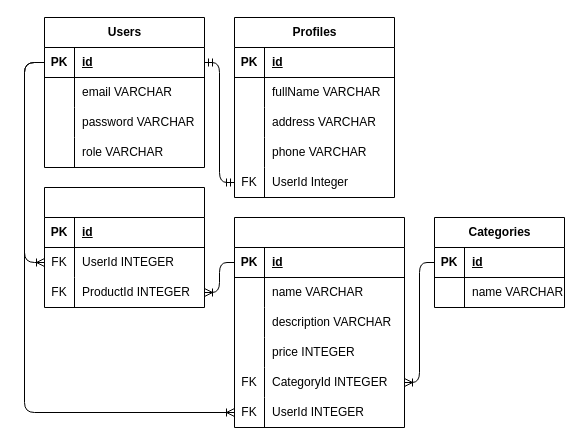
This 582x445 diagram has some shape labels left out. Here are the shapes that lost their labels. From the top down, the box of each, then its label:
(44, 186, 204, 308): UserProducts
(234, 216, 404, 428): Products
